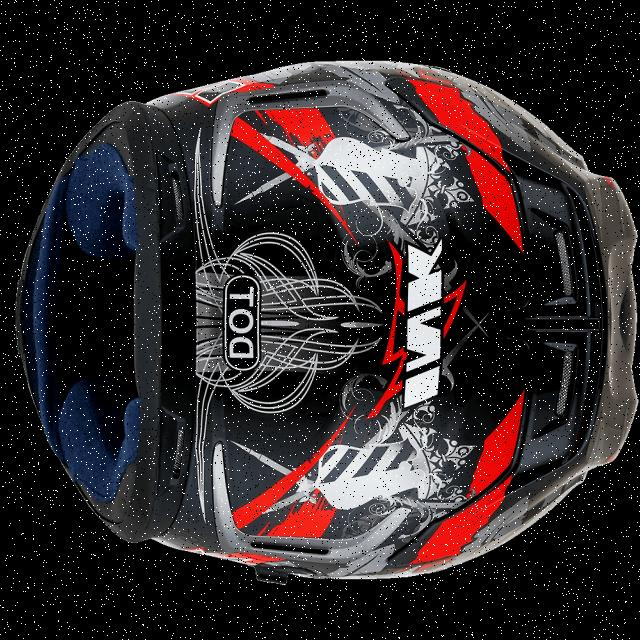Helmet: (16, 61, 635, 581)
